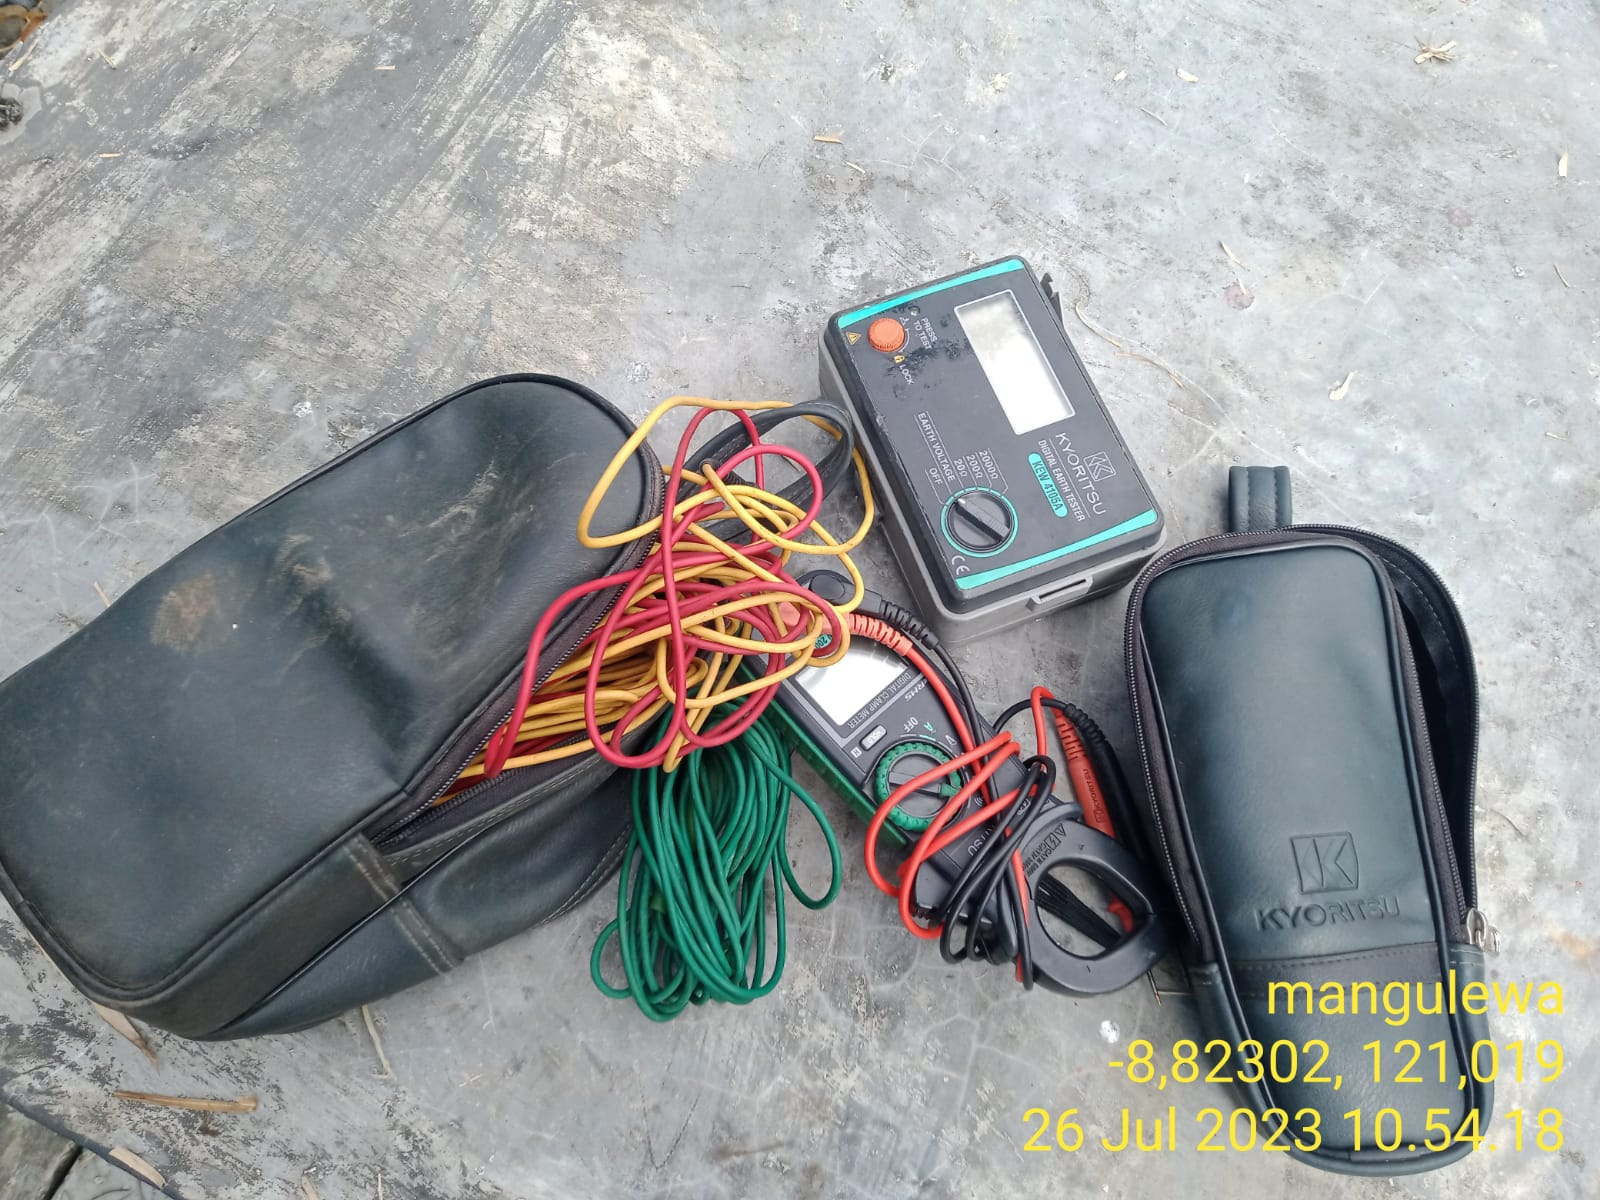EARTH_GROUNDING_TESTER: (816, 255, 1163, 609)
